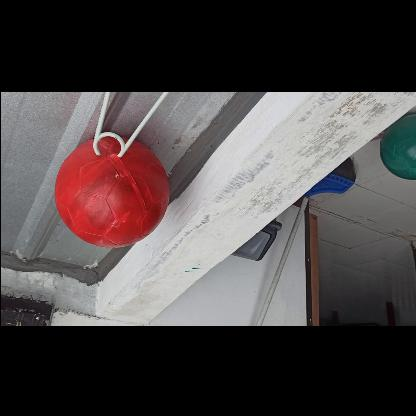red_ball: (52, 131, 168, 247)
